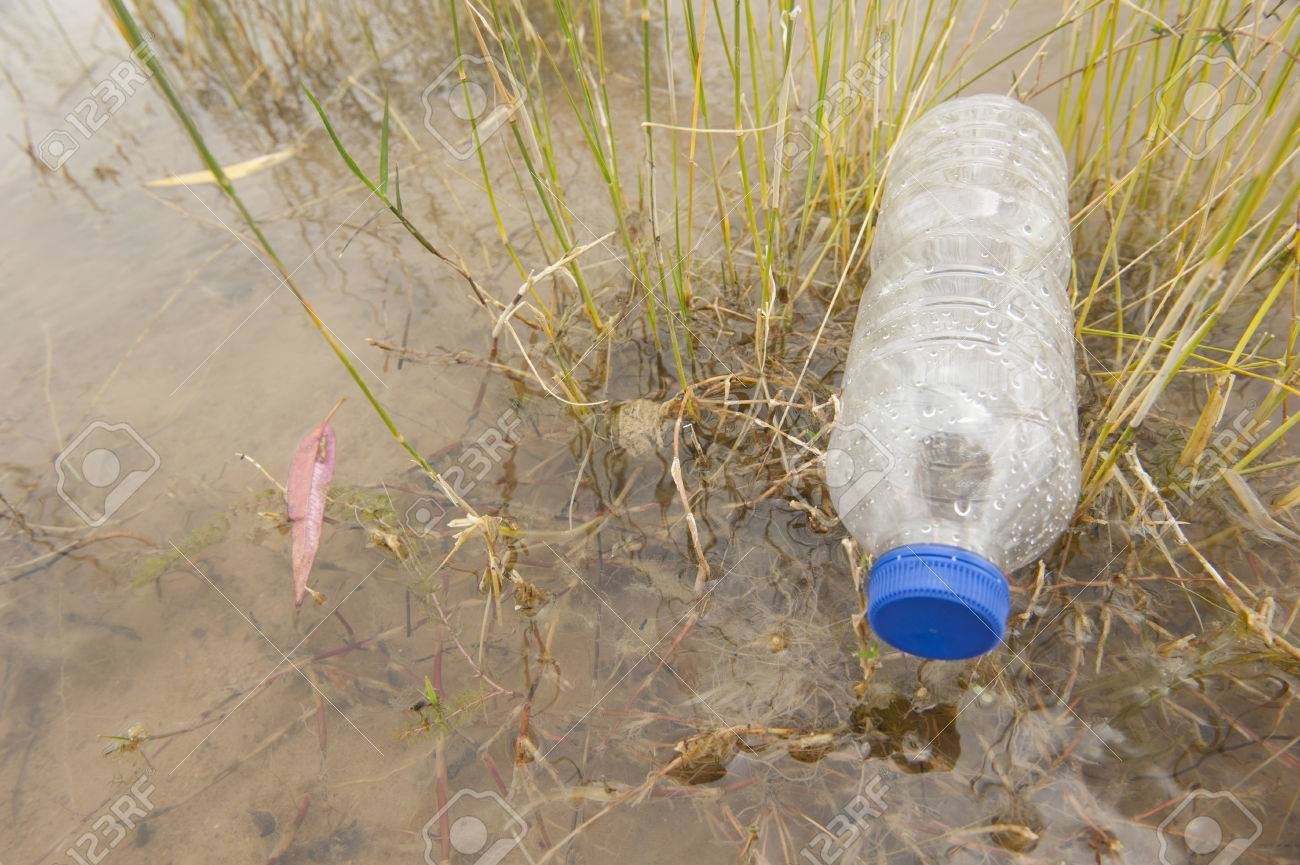plastic_bottle: (814, 87, 1094, 672)
